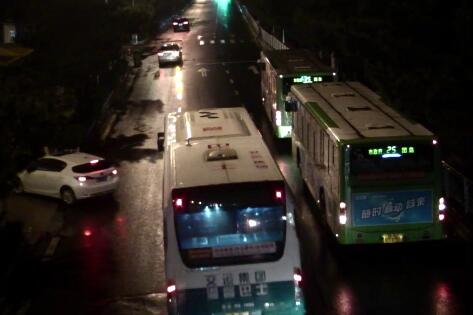bus: (156, 106, 307, 314), (285, 81, 448, 249), (257, 46, 335, 139)
car: (13, 151, 117, 202), (157, 44, 183, 65), (172, 16, 189, 29)
